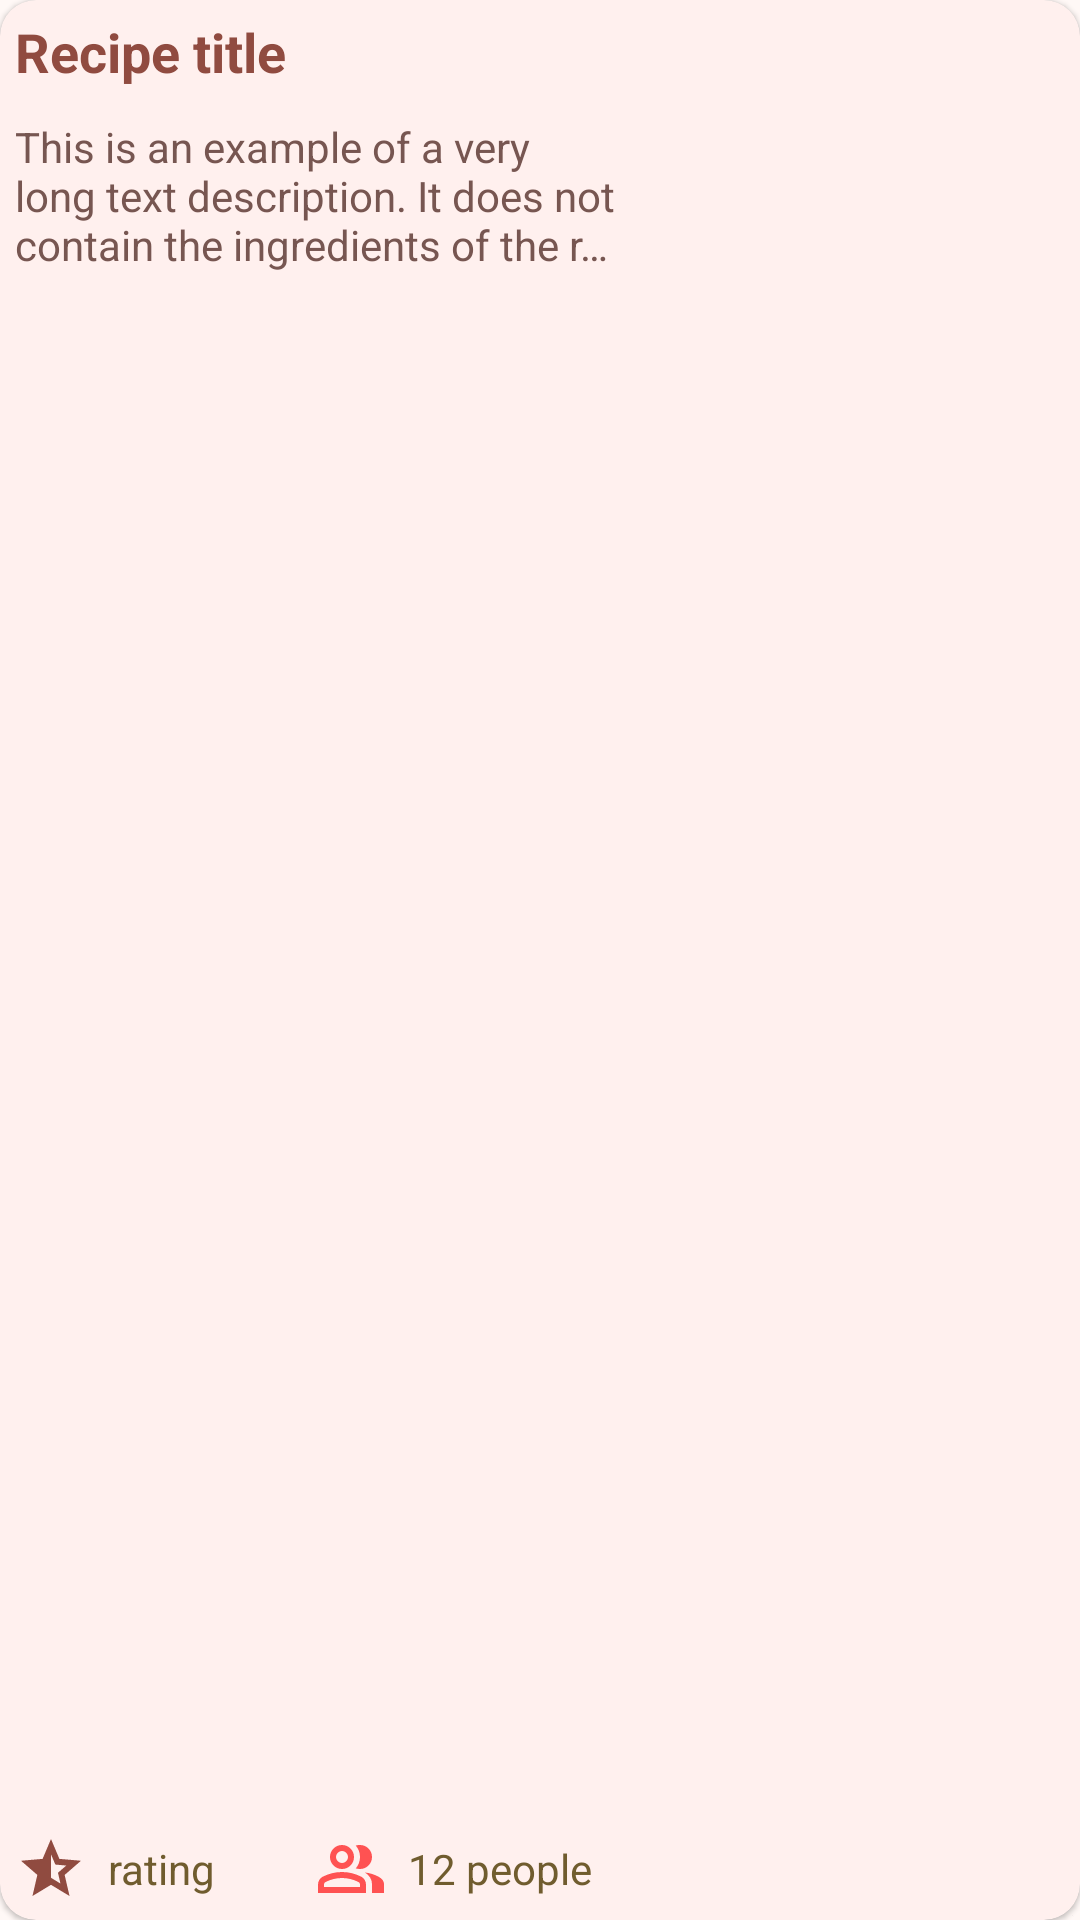

Point at icon controls on the screen. Image size 1080 x 1920, points as (x,y).
servings: (351,1869)
